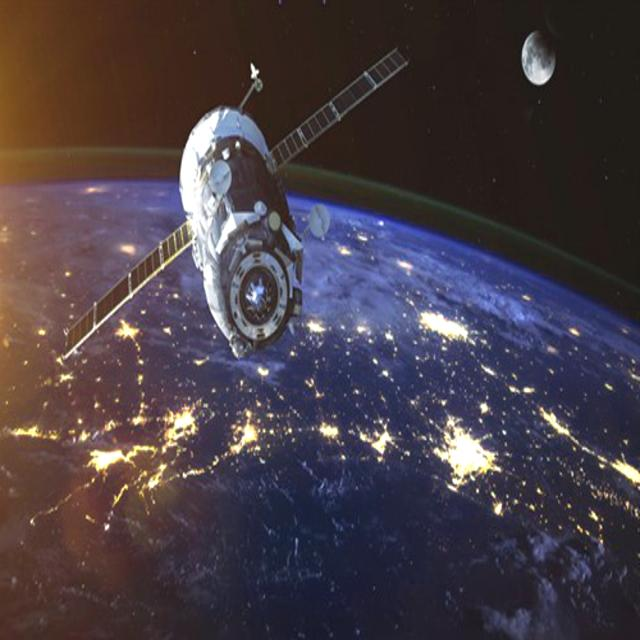medium_debris: (43, 1, 427, 399)
